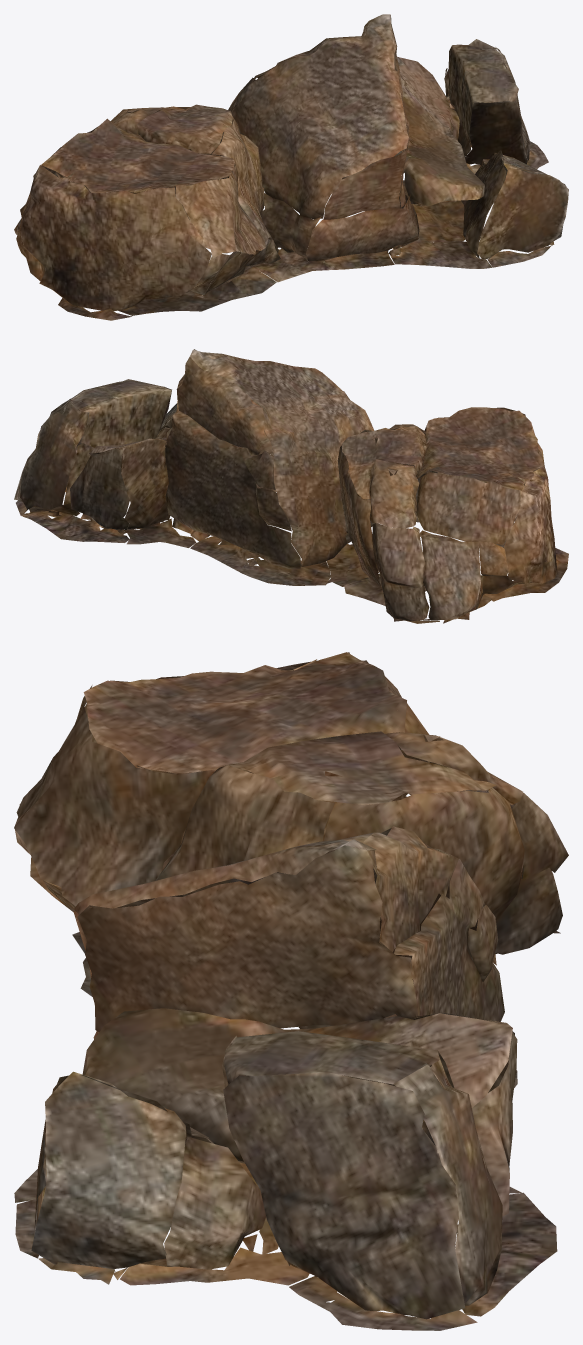
The model's file is boulderA.glb.
3 renders of one model, top to bottom at view 1: azimuth 30°, elevation 25°; view 2: azimuth 150°, elevation 25°; view 3: azimuth 270°, elevation 25°, orthographic. The views are drawn at different scales.
Visible parts, largest first — view 1: boulder_02; view 2: boulder_02; view 3: boulder_02.
Boxes of the visible parts, <box> form: boulder_02: <box>14,14,568,320</box>; boulder_02: <box>14,349,568,623</box>; boulder_02: <box>14,652,568,1330</box>.
Size of the model in its own units: 2.52 by 0.8766 by 1.24.
1 material, 1 textured.
